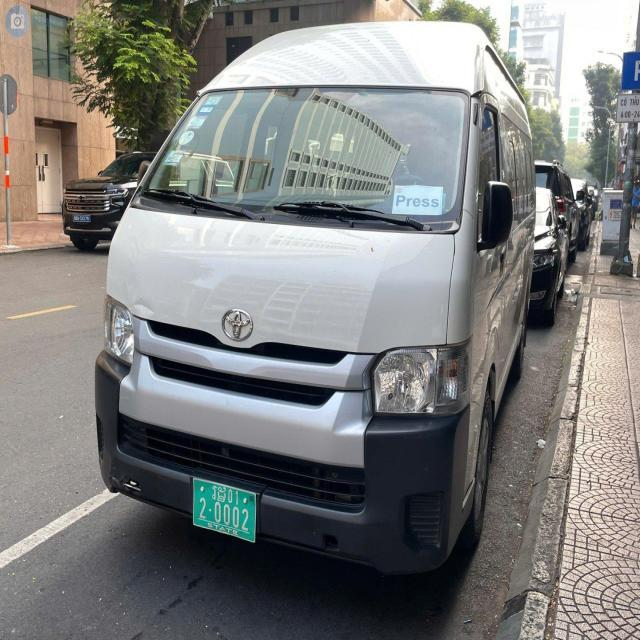State: (212, 484, 228, 503)
